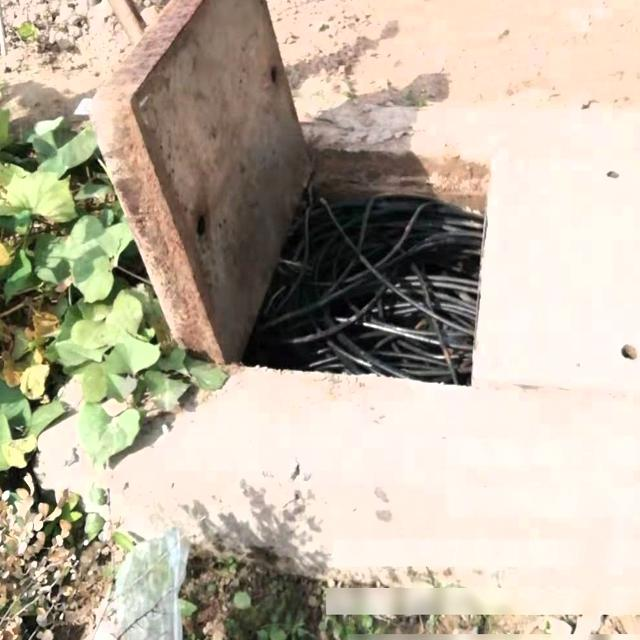uncovered: (68, 0, 609, 403)
